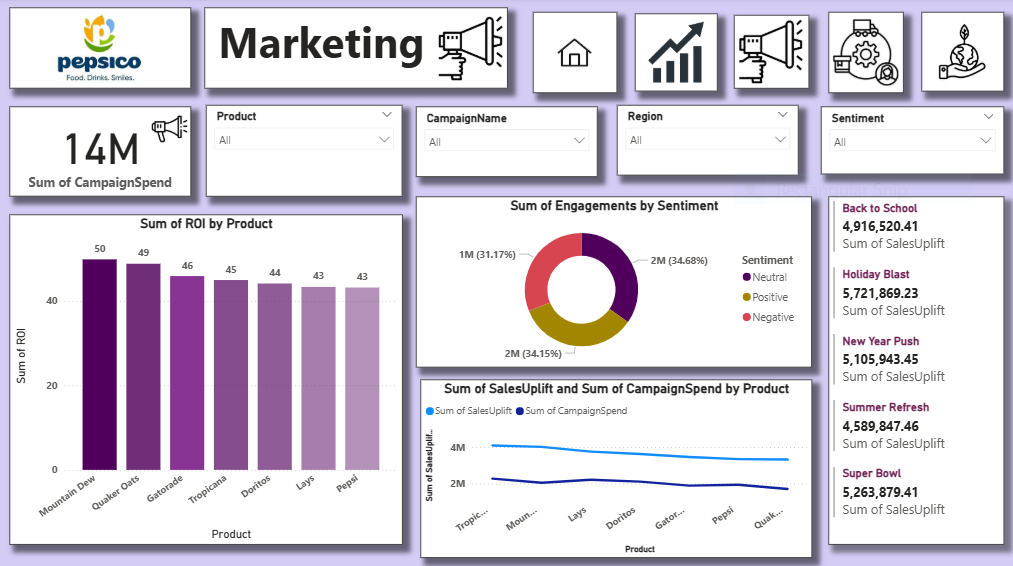

What the dashboard file says about the page in this screenshot:
{"tool":"powerbi","page":{"name":"Marketing","canvas":[1280,720],"ordinal":2},"visuals":[{"type":"group","id":"g1","title":"Group 3","box":[13.2,13.2,1252.9,693.5],"z":0,"group":"g4"},{"type":"image","box":[13.2,13.2,228.7,102],"z":0,"group":"g1"},{"type":"textbox","box":[258.9,13.2,381.7,102],"z":1000,"group":"g2"},{"type":"image","box":[187.1,137.9,54.8,56.7],"z":1000,"group":"g4"},{"type":"donutChart","fields":{"Category":["MarketingData.Sentiment"],"Y":["Sum(MarketingData.Engagements)"]},"box":[525.3,251.3,498.9,215.4],"z":1000,"group":"g1"},{"type":"image","box":[672.7,18.9,105.8,102],"z":2000,"group":"g3"},{"type":"columnChart","fields":{"Y":["Sum(MarketingData.ROI)"],"Category":["MarketingData.Product"]},"box":[13.2,274,495.1,415.8],"z":2000,"group":"g1"},{"type":"image","box":[801.2,20.8,103.9,98.3],"z":3000,"group":"g3"},{"type":"slicer","fields":{"Values":["MarketingData.Region"]},"box":[778.6,136,228.7,88.8],"z":3000,"group":"g1"},{"type":"image","box":[925.9,22.7,94.5,92.6],"z":4000,"group":"g3"},{"type":"slicer","fields":{"Values":["MarketingData.CampaignName"]},"box":[525.3,137.9,228.7,88.8],"z":4000,"group":"g1"},{"type":"image","box":[1045,18.9,94.5,102],"z":5000,"group":"g3"},{"type":"card","fields":{"Values":["Sum(MarketingData.CampaignSpend)"]},"box":[13.2,137.9,228.7,113.4],"z":5000,"group":"g1"},{"type":"image","box":[1162.2,18.9,103.9,100.2],"z":6000,"group":"g3"},{"type":"slicer","fields":{"Values":["MarketingData.Product"]},"box":[260.8,136,247.6,115.3],"z":6000,"group":"g1"},{"type":"lineChart","fields":{"Y":["Sum(MarketingData.SalesUplift)","Sum(MarketingData.CampaignSpend)"],"Category":["MarketingData.Product"]},"box":[531,481.9,493.2,224.9],"z":7000,"group":"g1"},{"type":"slicer","fields":{"Values":["MarketingData.Sentiment"]},"box":[1035.6,137.9,230.6,85],"z":8000,"group":"g1"},{"type":"multiRowCard","fields":{"Values":["MarketingData.CampaignName","Sum(MarketingData.SalesUplift)"]},"box":[1045,251.3,221.1,438.4],"z":9000,"group":"g1"},{"type":"group","id":"g2","title":"Group 1","box":[258.9,13.2,381.7,102],"z":10000,"group":"g1"},{"type":"group","id":"g3","title":"Group 2","box":[672.7,18.9,593.4,102],"z":11000,"group":"g1"},{"type":"image","box":[548,18.9,92.6,90.7],"z":15000,"group":"g2"},{"type":"group","id":"g4","title":"Group 4","box":[13.2,13.2,1252.9,693.5],"z":15006}]}

Visuals, with their boxes in screenshot pixels (x1, y1, x2, y2), scaled from the page's 1280x720 canvas onto the 1013x566 screenshot:
"Group 3" group: bbox(10, 10, 1002, 556)
image: bbox(10, 10, 191, 91)
textbox: bbox(205, 10, 507, 91)
image: bbox(148, 108, 191, 153)
donutChart - MarketingData.Sentiment x Sum(MarketingData.Engagements): bbox(416, 198, 811, 367)
image: bbox(532, 15, 616, 95)
columnChart - Sum(MarketingData.ROI) x MarketingData.Product: bbox(10, 215, 402, 542)
image: bbox(634, 16, 716, 94)
slicer - MarketingData.Region: bbox(616, 107, 797, 177)
image: bbox(733, 18, 808, 91)
slicer - MarketingData.CampaignName: bbox(416, 108, 597, 178)
image: bbox(827, 15, 902, 95)
card - Sum(MarketingData.CampaignSpend): bbox(10, 108, 191, 198)
image: bbox(920, 15, 1002, 94)
slicer - MarketingData.Product: bbox(206, 107, 402, 198)
lineChart - Sum(MarketingData.SalesUplift) x Sum(MarketingData.CampaignSpend): bbox(420, 379, 811, 556)
slicer - MarketingData.Sentiment: bbox(820, 108, 1002, 175)
multiRowCard - MarketingData.CampaignName x Sum(MarketingData.SalesUplift): bbox(827, 198, 1002, 542)
"Group 1" group: bbox(205, 10, 507, 91)
"Group 2" group: bbox(532, 15, 1002, 95)
image: bbox(434, 15, 507, 86)
"Group 4" group: bbox(10, 10, 1002, 556)
